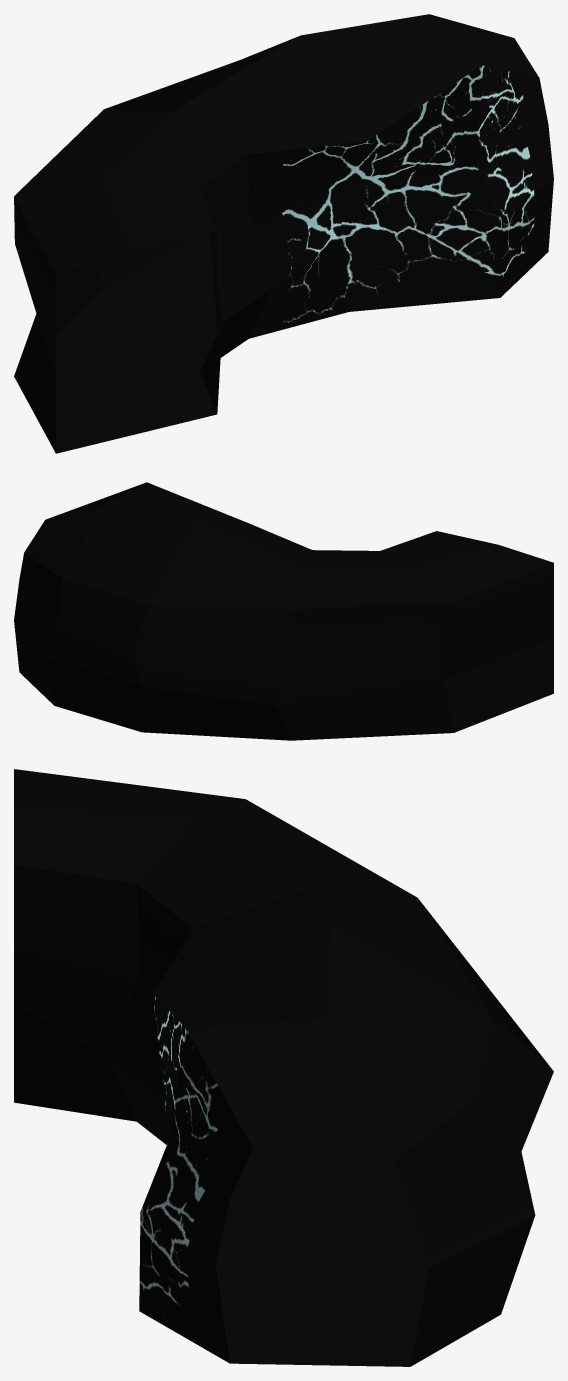
File: Hallway_FromRoom1_ToRoom2.fbx
3 renders of one model, top to bottom at view 1: azimuth 30°, elevation 25°; view 2: azimuth 150°, elevation 25°; view 3: azimuth 270°, elevation 25°, orthographic. The views are drawn at different scales.
Visible parts, largest first — view 1: Hallway_FromRoom1_ToRoom2; view 2: Hallway_FromRoom1_ToRoom2; view 3: Hallway_FromRoom1_ToRoom2.
Part boxes in pixels (x1,y1,x2,y2): Hallway_FromRoom1_ToRoom2: [14, 14, 553, 453]; Hallway_FromRoom1_ToRoom2: [14, 482, 553, 740]; Hallway_FromRoom1_ToRoom2: [14, 769, 553, 1366].
Bounding box in the file's own units: 793 × 311 × 494.
Materials: 1 (1 with a texture image).
